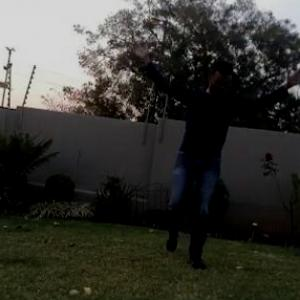takeoff: (133, 38, 299, 263)
